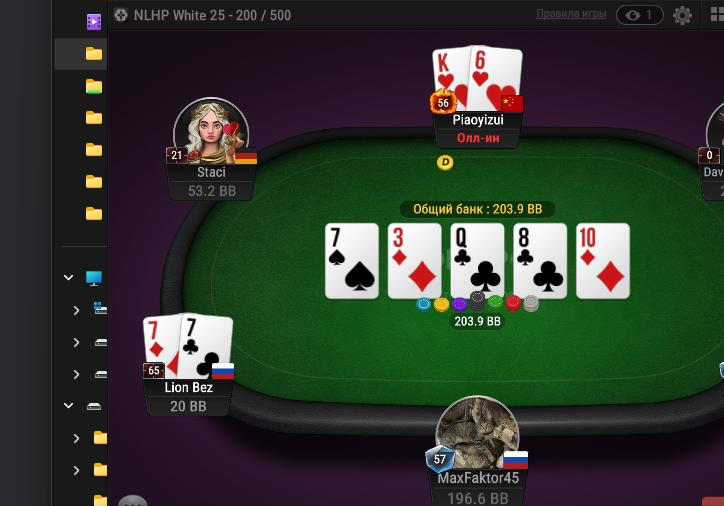10d: (577, 224, 630, 297)
3d: (389, 224, 440, 298)
6h: (471, 44, 522, 111)
7c: (181, 310, 233, 381)
7d: (140, 315, 183, 379)
7s: (326, 222, 379, 297)
8c: (514, 224, 566, 298)
Kh: (431, 46, 469, 113)
Qc: (452, 223, 503, 297)
